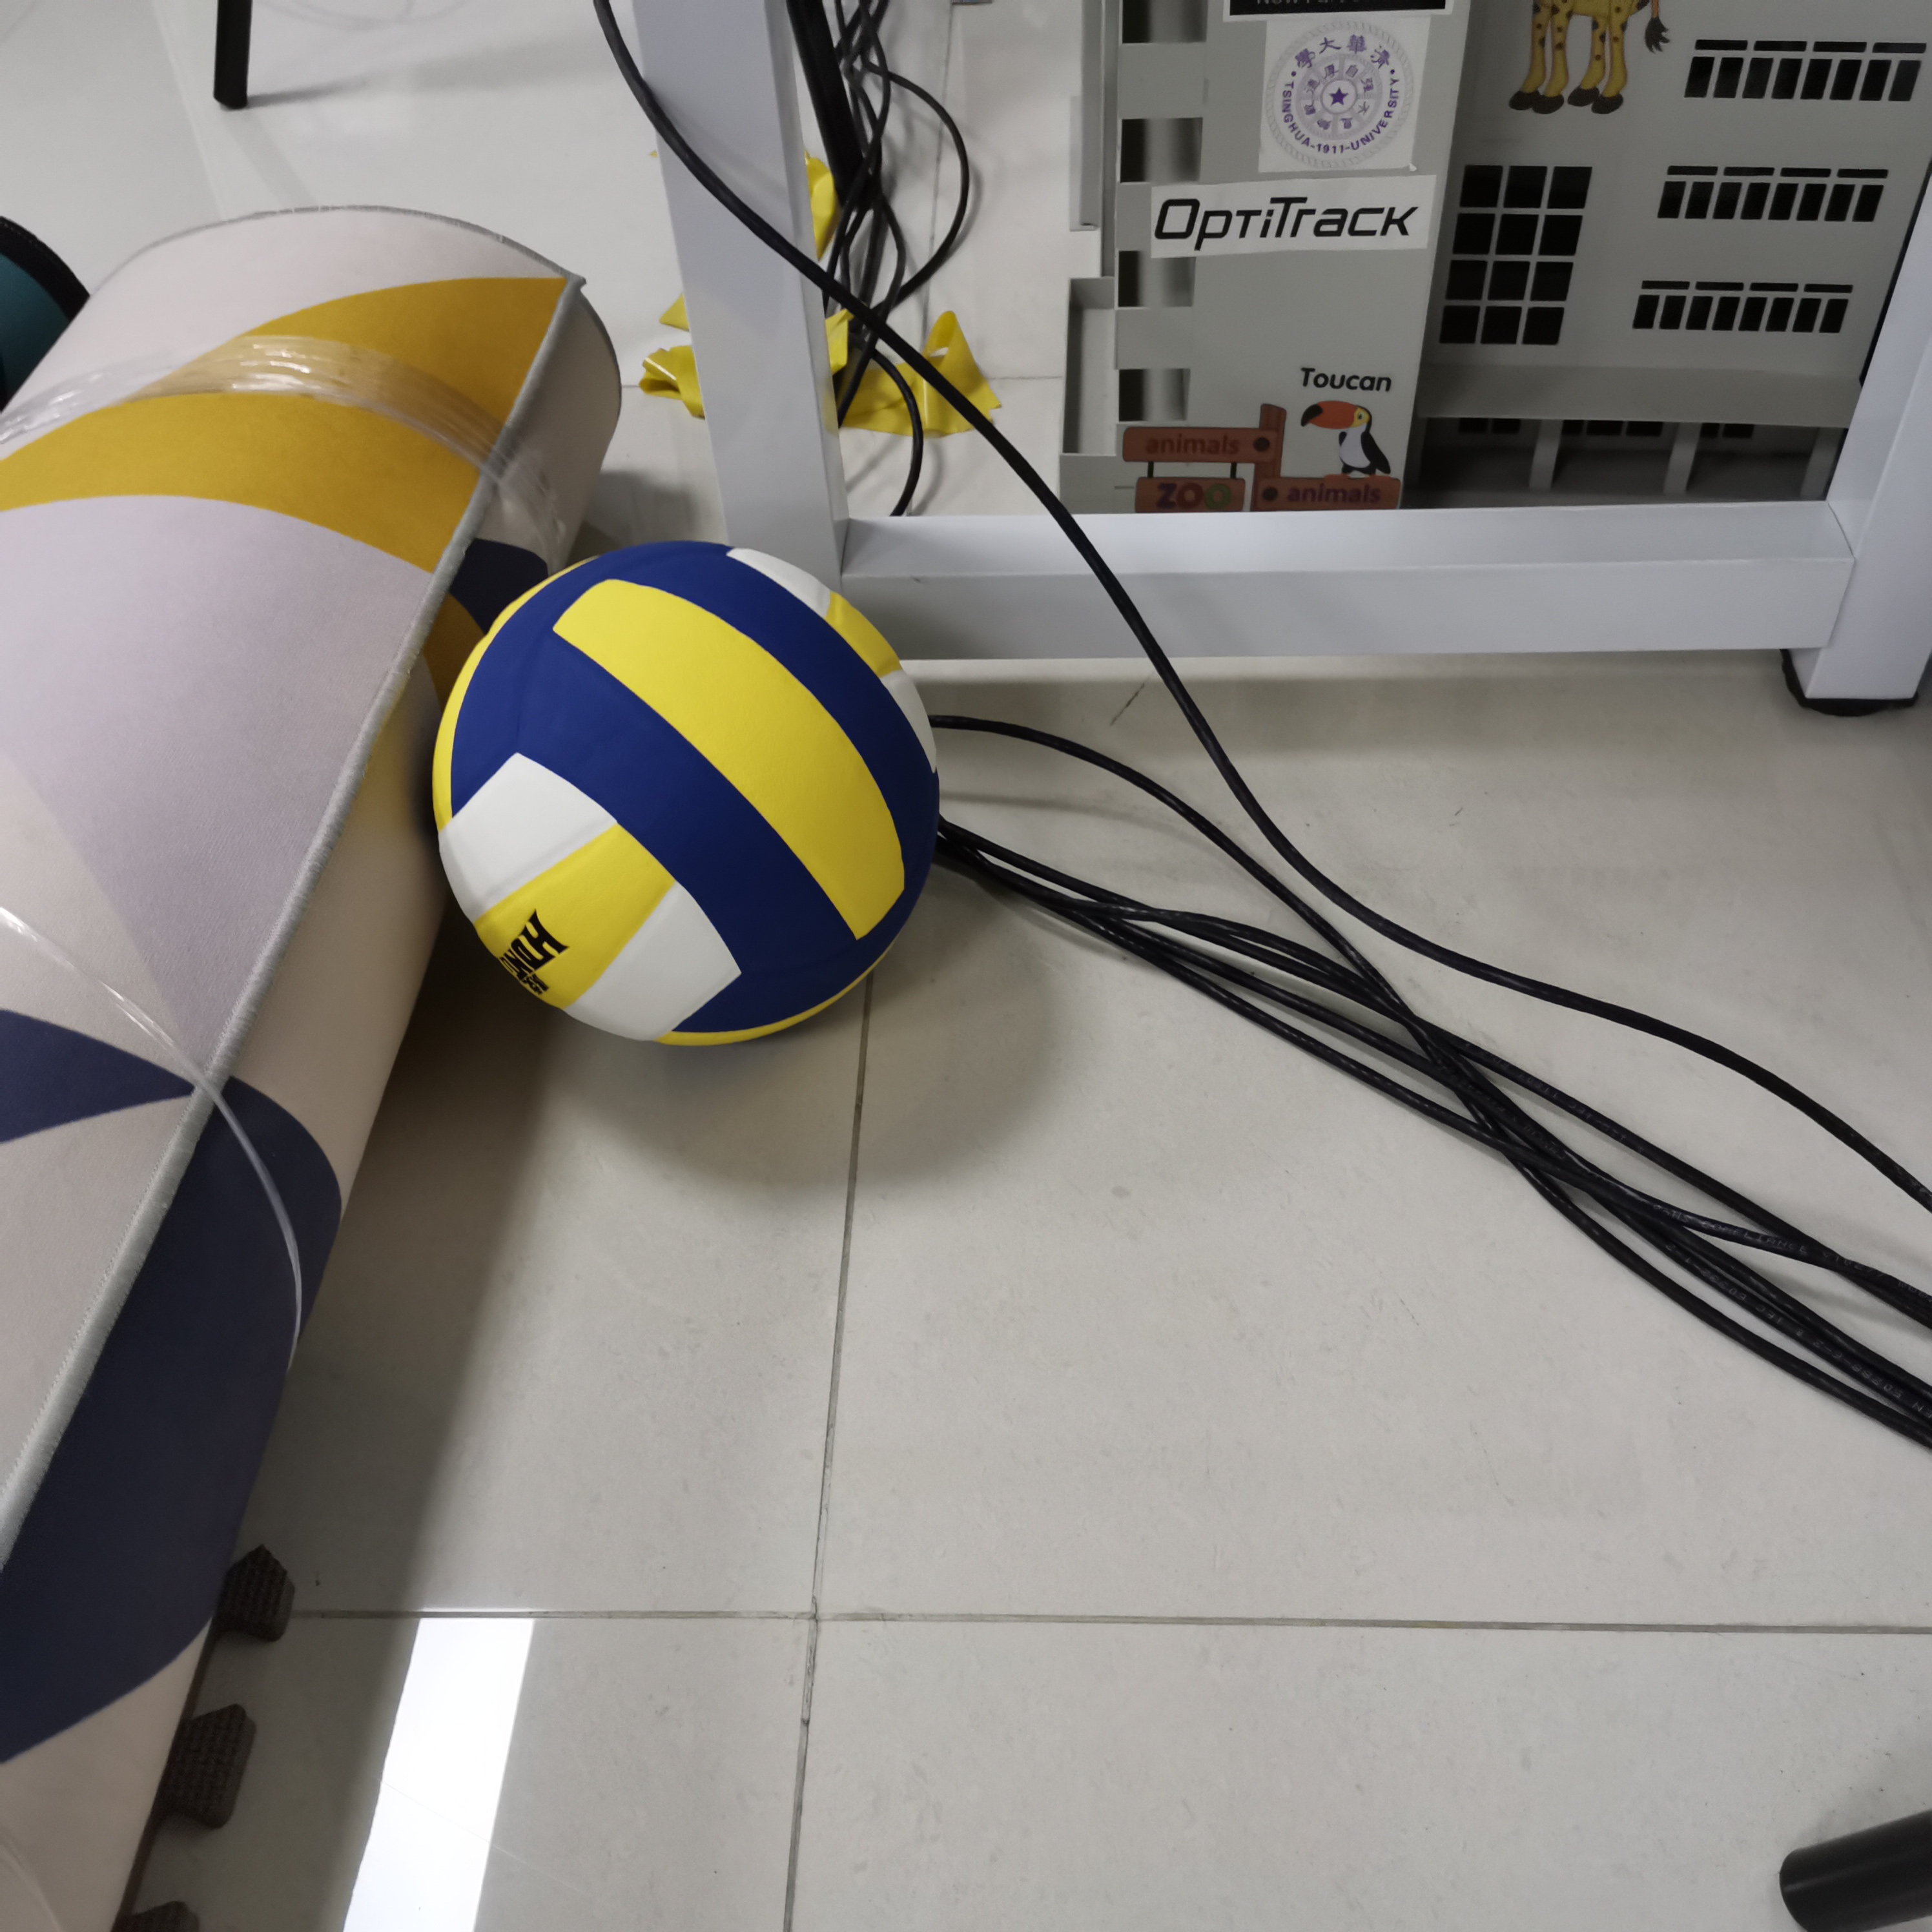volleyball: (426, 545, 948, 1054)
